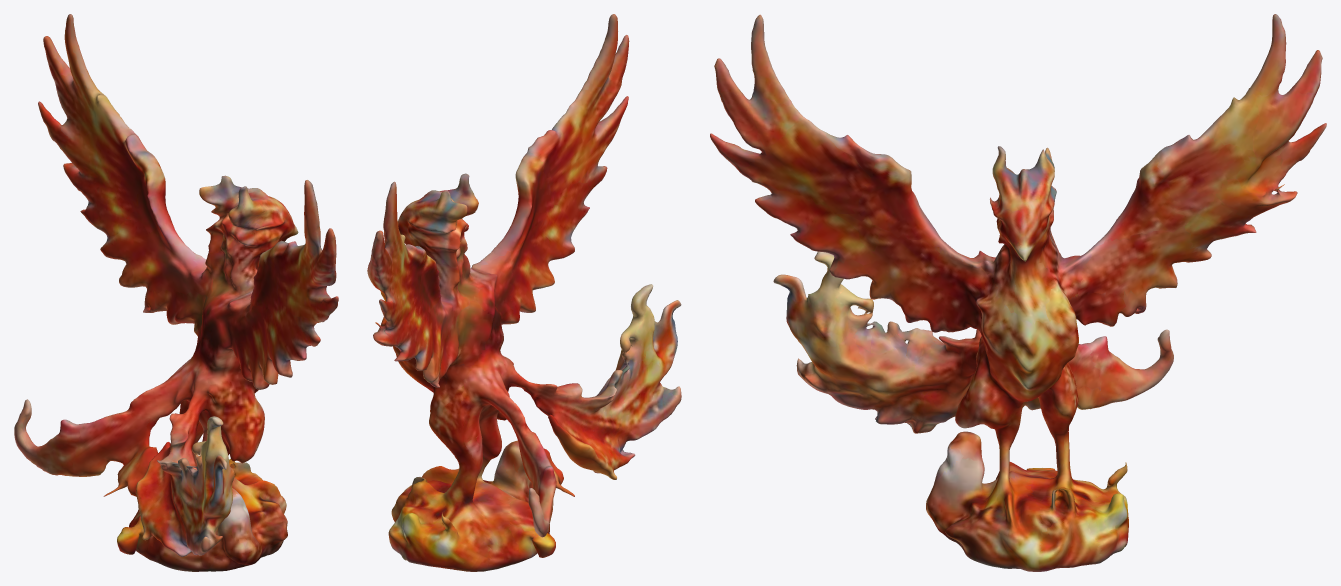
Rendered from phoenix_warrior.glb.
The picture shows the model from 3 angles, left to right: view 1: azimuth 30°, elevation 25°; view 2: azimuth 150°, elevation 25°; view 3: azimuth 270°, elevation 25°; orthographic projection. The views are drawn at different scales.
Visible parts, largest first — view 1: tripo_node_b9084b26-c562-4aa7-8ff2-51514c9fdafe; view 2: tripo_node_b9084b26-c562-4aa7-8ff2-51514c9fdafe; view 3: tripo_node_b9084b26-c562-4aa7-8ff2-51514c9fdafe.
Part boxes in pixels (<box>): tripo_node_b9084b26-c562-4aa7-8ff2-51514c9fdafe: <box>14,14,338,571</box>; tripo_node_b9084b26-c562-4aa7-8ff2-51514c9fdafe: <box>367,14,681,571</box>; tripo_node_b9084b26-c562-4aa7-8ff2-51514c9fdafe: <box>710,14,1326,571</box>.
Size of the model in its own units: 0.3502 by 0.6937 by 0.7615.
1 material, 1 textured.
